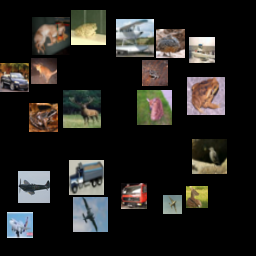airplane: (116, 19, 154, 57), (73, 197, 108, 232), (18, 171, 50, 203), (7, 212, 33, 238), (163, 195, 182, 214)
automobile: (0, 63, 29, 92)
bird: (192, 139, 227, 174), (156, 29, 185, 58)
cat: (31, 58, 57, 84)
deer: (63, 90, 101, 128), (137, 90, 172, 125), (186, 186, 208, 208)
dog: (32, 17, 70, 55)
frog: (187, 77, 225, 115), (71, 10, 106, 45), (29, 103, 58, 132), (142, 60, 168, 86)
ship: (189, 37, 215, 63)
